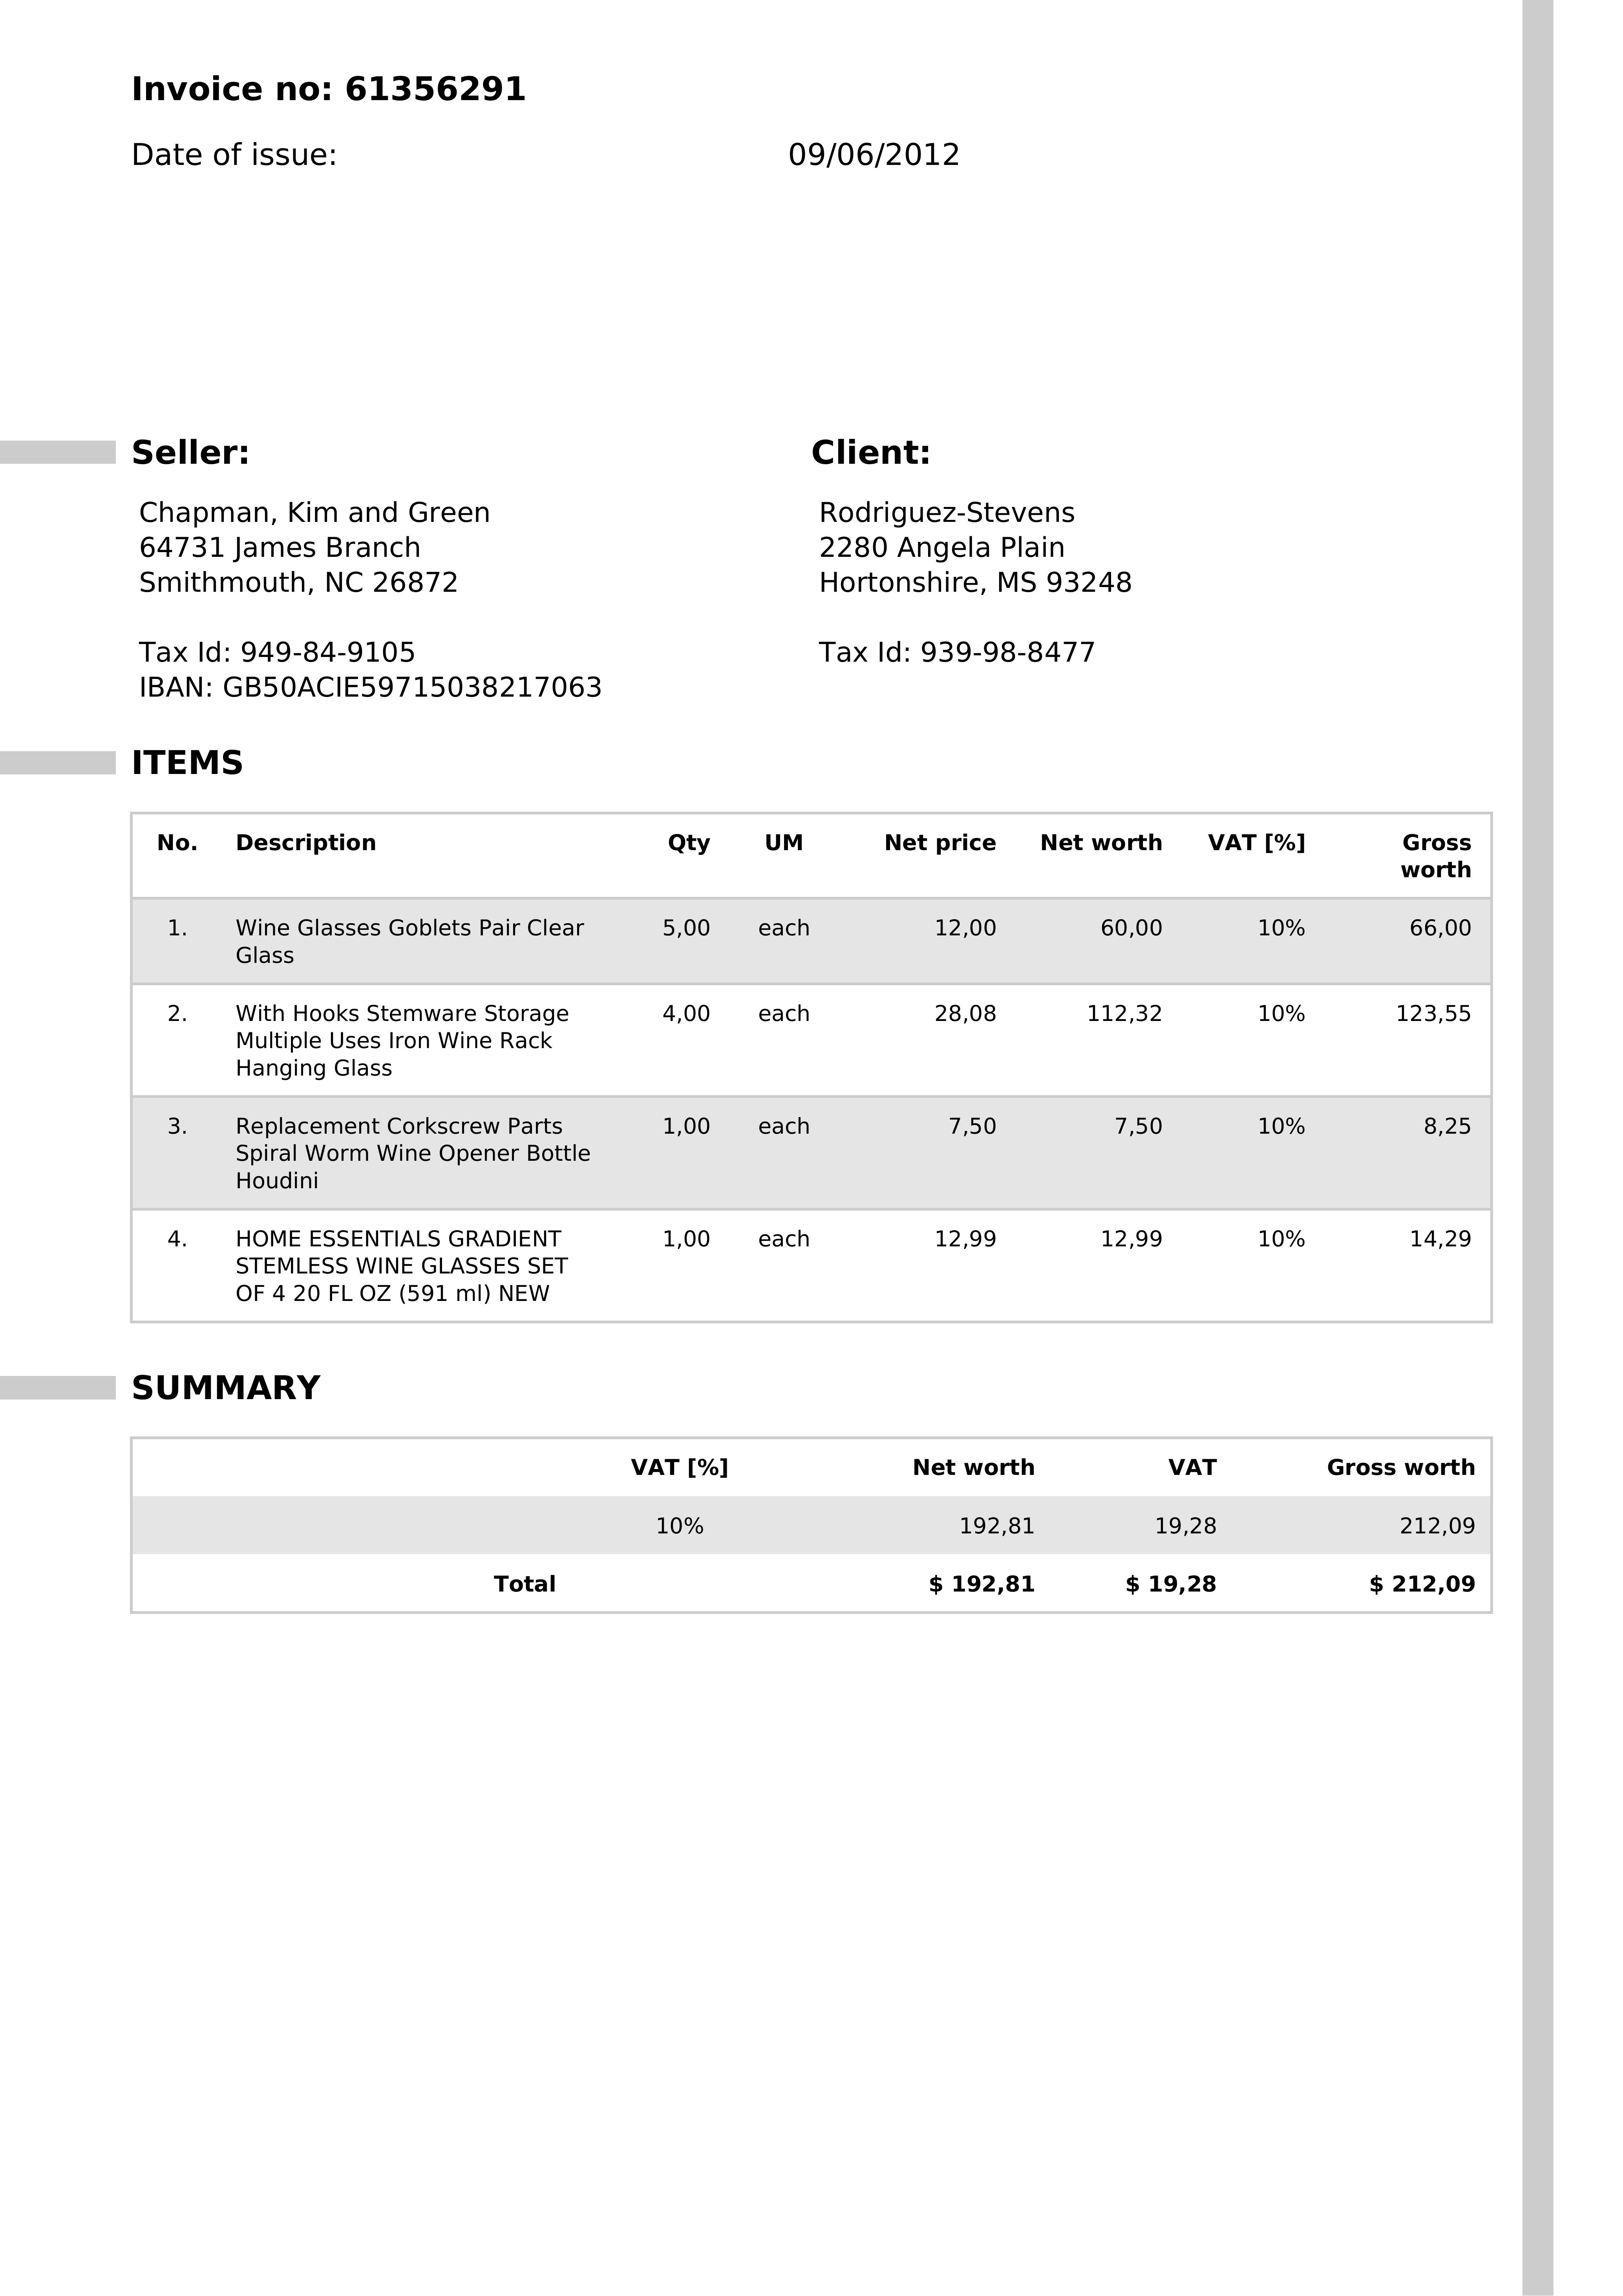column: (220, 817, 601, 1323), (1035, 810, 1189, 1323), (1200, 815, 1351, 1319), (873, 810, 1017, 1323), (1363, 815, 1490, 1323), (634, 817, 738, 1323), (750, 817, 838, 1319), (1302, 1437, 1493, 1616), (896, 1435, 1052, 1613), (1114, 1437, 1256, 1613), (622, 1442, 748, 1614), (478, 1440, 583, 1613)
